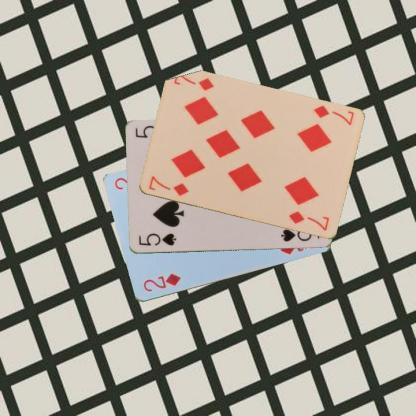2d: (140, 271, 182, 293)
5s: (136, 230, 177, 247)
7d: (146, 173, 190, 198), (310, 103, 355, 127)
